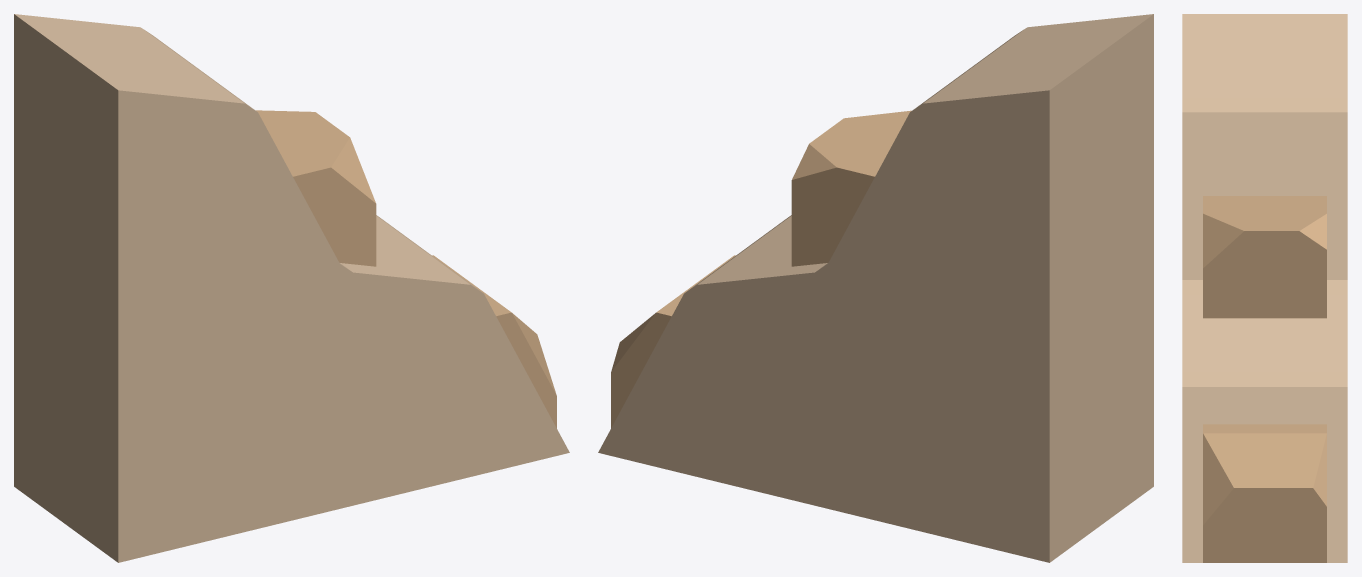
The model's file is Wall_Ruined_Corner_Outer_2.fbx.
3 views of the same model, side by side, from view 1: azimuth 30°, elevation 25°; view 2: azimuth 150°, elevation 25°; view 3: azimuth 270°, elevation 25° (orthographic). The views are drawn at different scales.
Visible parts, largest first — view 1: object2, object3, object1; view 2: object2, object3, object1; view 3: object2, object1, object3.
Boxes of the visible parts, left/top/right/bottom form: object2: left=14, top=14, right=569, bottom=562; object3: left=256, top=110, right=376, bottom=266; object1: left=432, top=255, right=556, bottom=428; object2: left=598, top=14, right=1153, bottom=562; object3: left=791, top=110, right=911, bottom=266; object1: left=611, top=255, right=735, bottom=428; object2: left=1182, top=14, right=1347, bottom=562; object1: left=1203, top=424, right=1326, bottom=562; object3: left=1203, top=196, right=1326, bottom=318.
Bounding box in the file's own units: 0.5 × 0.5 × 0.2.
